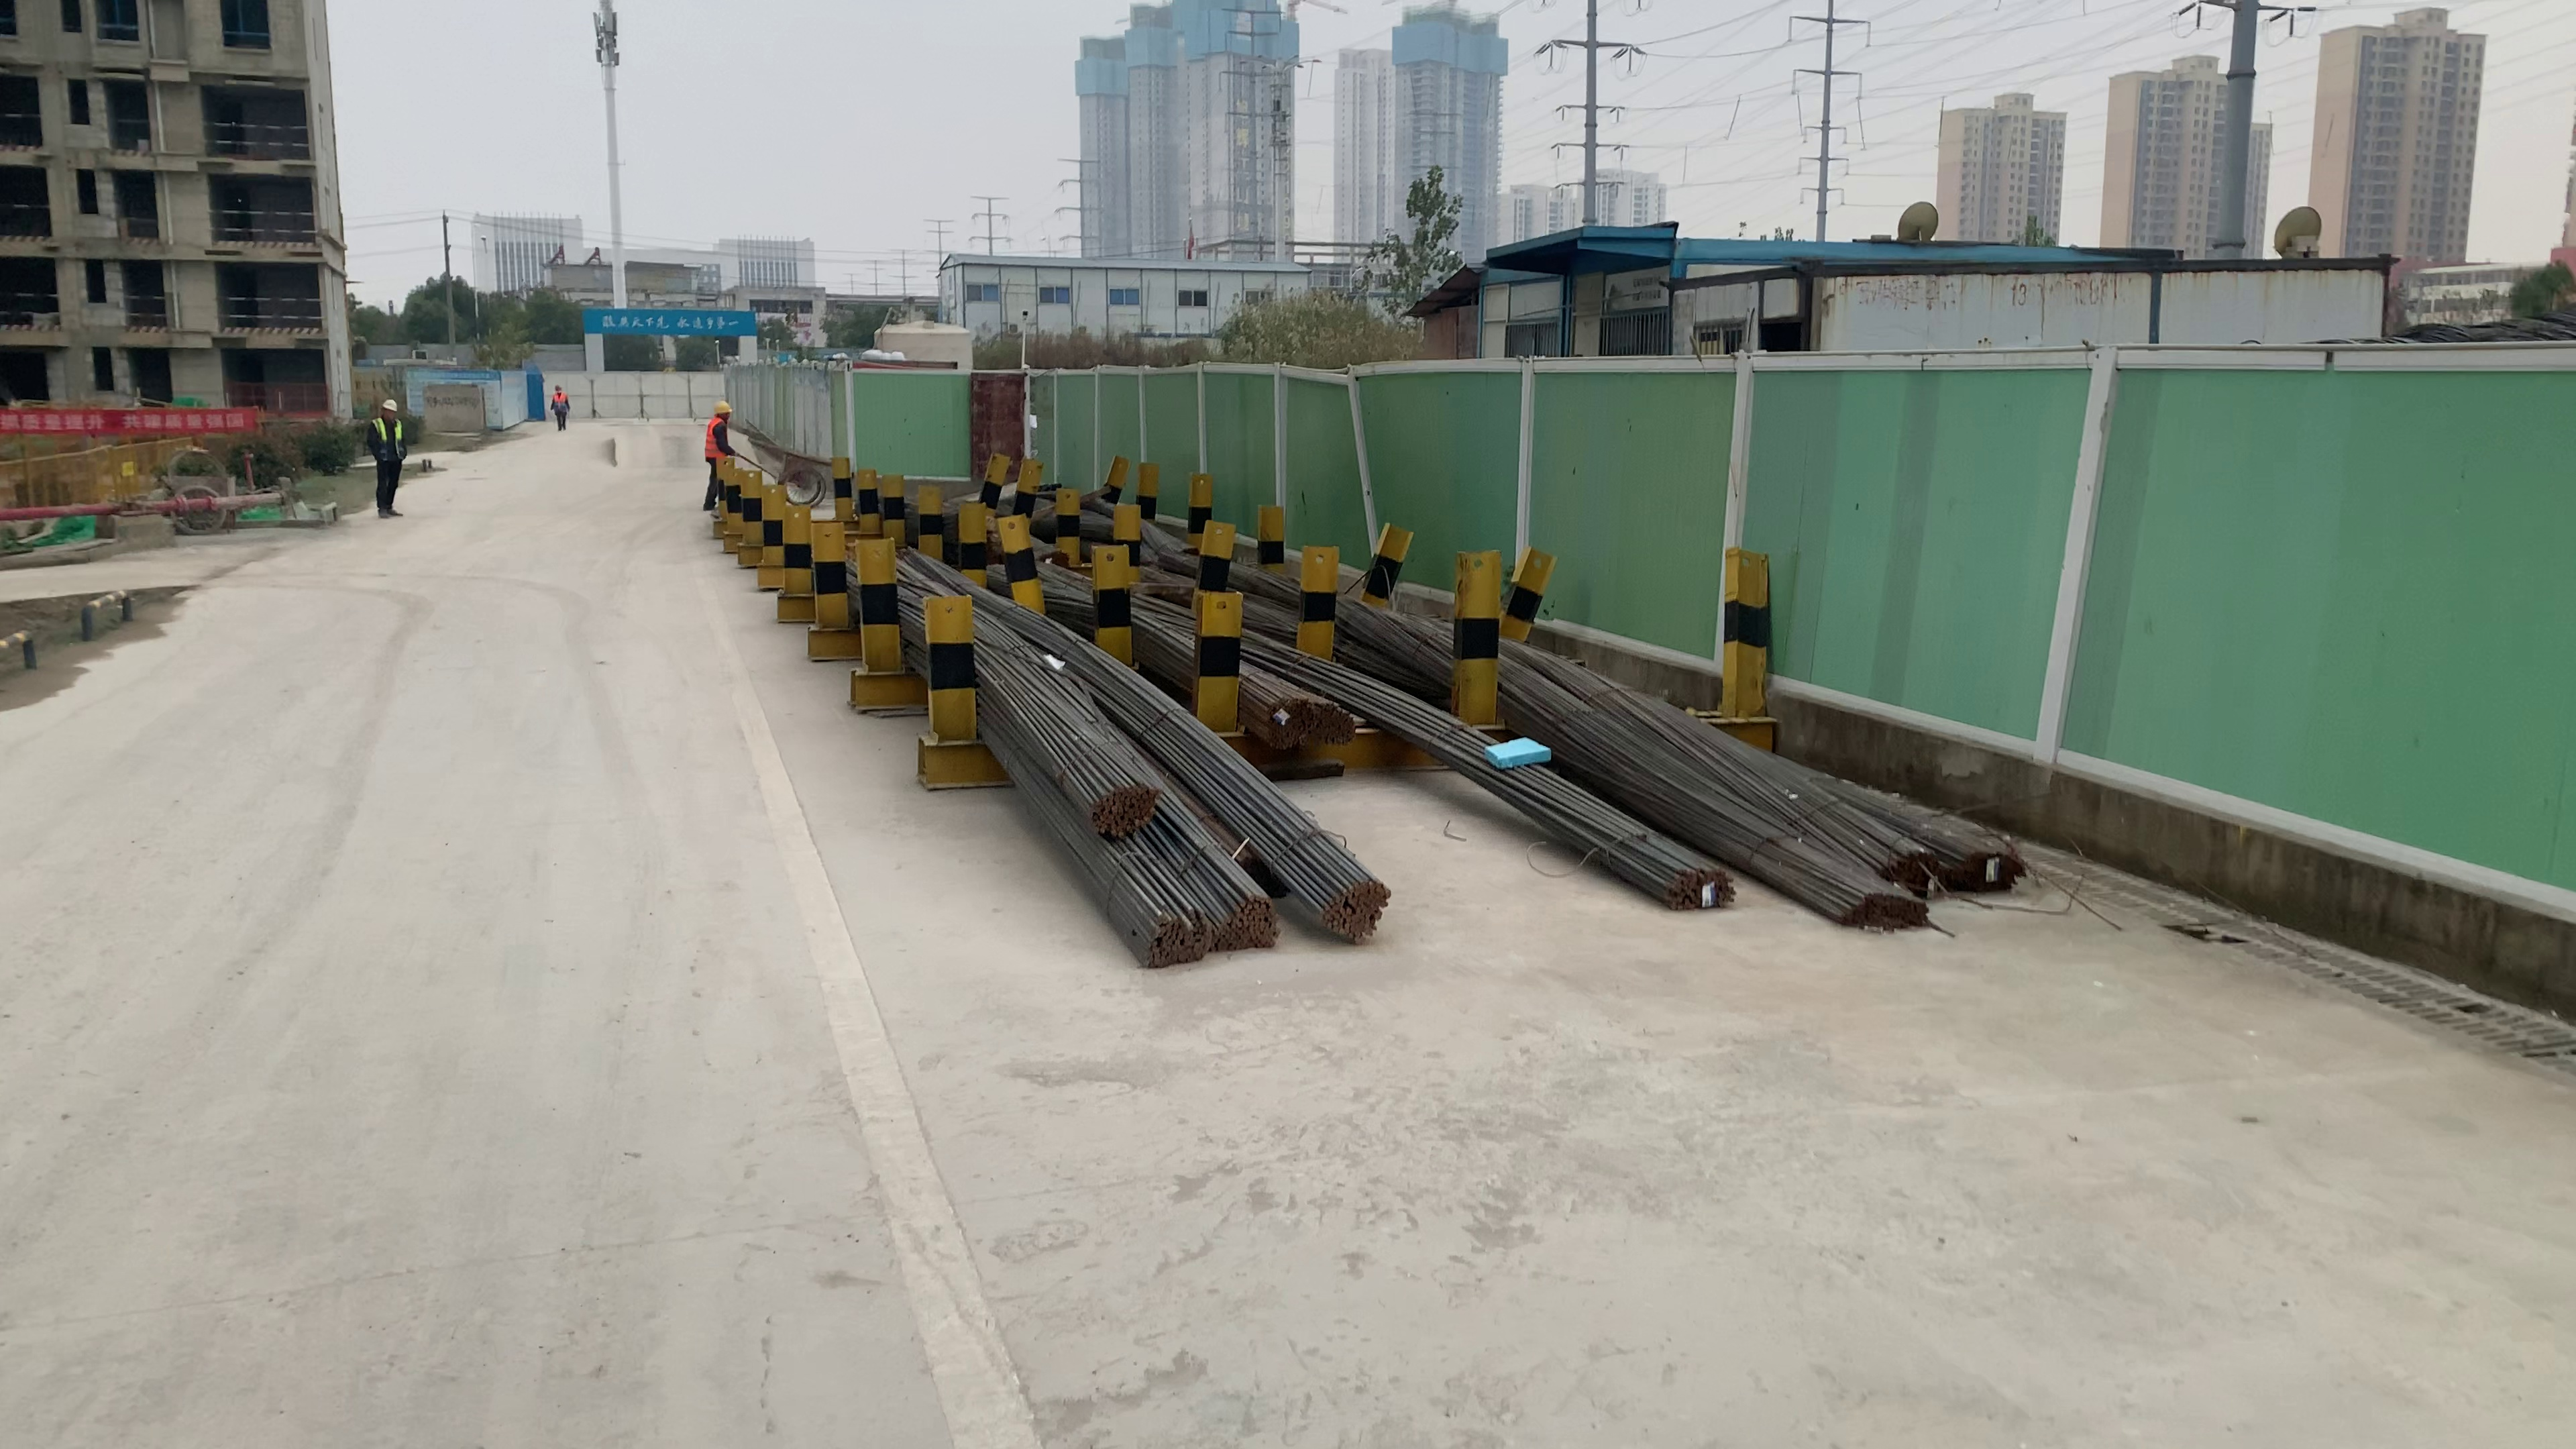rebar: (1136, 904, 1207, 971), (1652, 860, 1737, 913), (1318, 879, 1391, 941), (1095, 780, 1161, 846), (1966, 840, 2029, 892), (1847, 893, 1932, 931), (1214, 899, 1274, 950), (1874, 847, 1943, 890), (1309, 704, 1357, 750), (1269, 699, 1307, 748)
